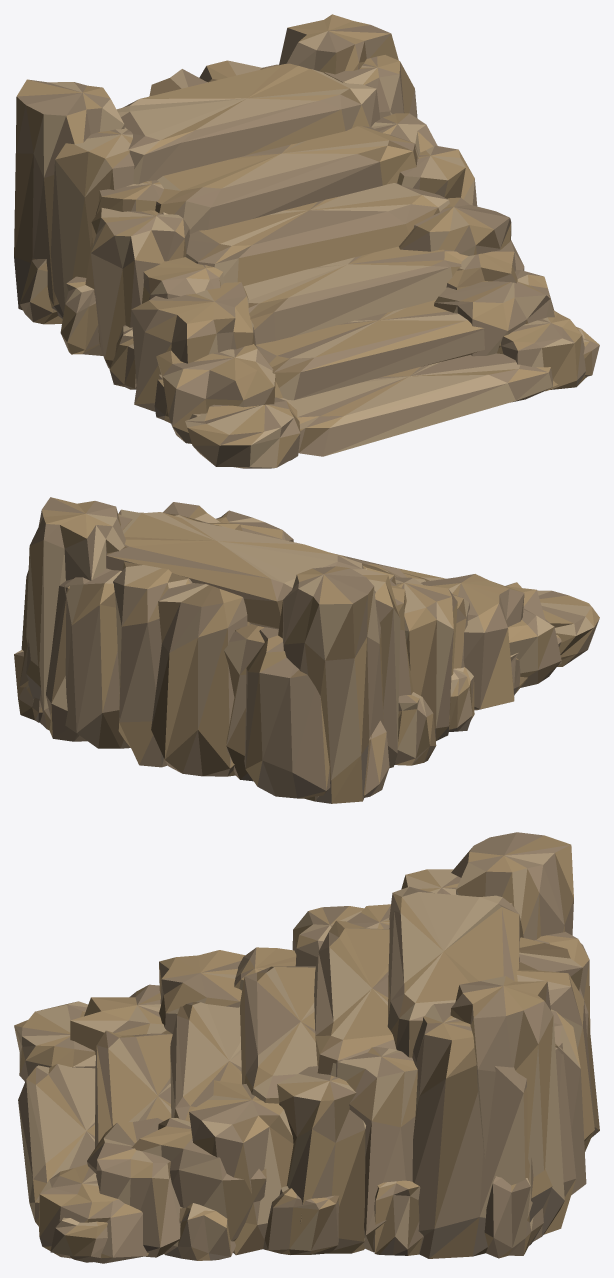
File: wsc-module-015-sandstone-steps.glb
The picture shows the model from 3 angles, top to bottom: view 1: azimuth 30°, elevation 25°; view 2: azimuth 150°, elevation 25°; view 3: azimuth 270°, elevation 25°; orthographic projection. The views are drawn at different scales.
Parts seen in each view (by area): view 1: Leveled rock and rubble; view 2: Leveled rock and rubble; view 3: Leveled rock and rubble.
Boxes of the visible parts, bbox=[...] form: Leveled rock and rubble: bbox=[14, 14, 599, 468]; Leveled rock and rubble: bbox=[14, 497, 599, 803]; Leveled rock and rubble: bbox=[14, 832, 599, 1263].
Bounding box in the file's own units: 3.04 × 1.5 × 3.35.
